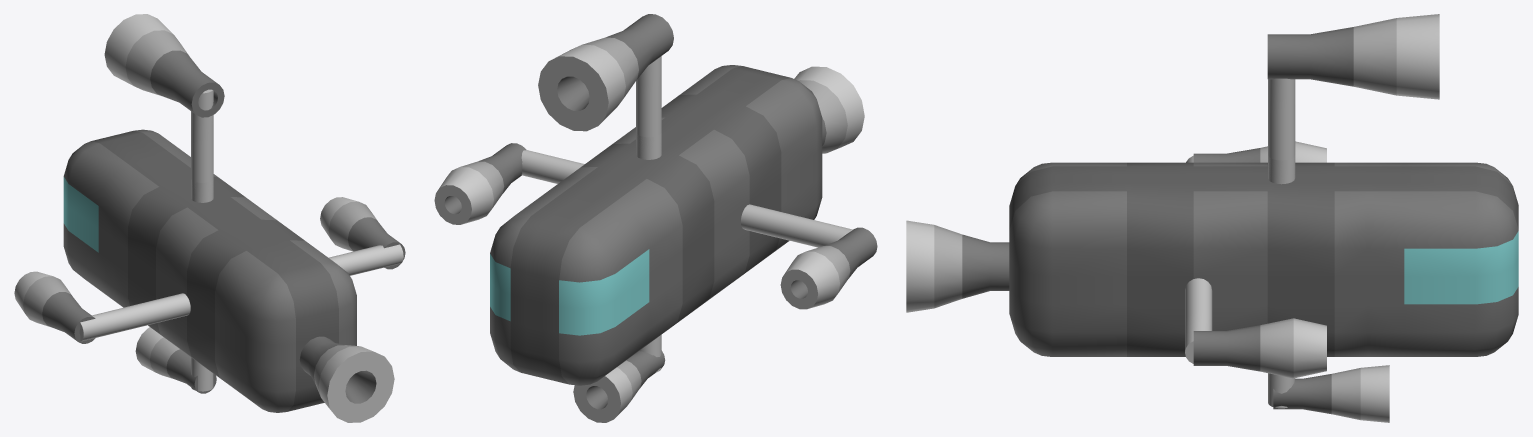
File: tanker.fbx
3 views of the same model, side by side, from view 1: azimuth 30°, elevation 25°; view 2: azimuth 150°, elevation 25°; view 3: azimuth 270°, elevation 25° (orthographic). The views are drawn at different scales.
Visible parts, largest first — view 1: Cube, Tube_1, Tube_4, Tube, Tube_3, Cylinder, Tube_2, Cylinder_2, Cylinder_1, Cylinder_3; view 2: Cube, Tube_1, Tube, Tube_3, Tube_4, Tube_2, Cylinder, Cylinder_2, Cylinder_1, Cylinder_3; view 3: Cube, Tube_1, Tube_4, Tube_3, Tube_2, Cylinder_2, Cylinder_1, Tube, Cylinder_3.
Part boxes in pixels (<box>): Cube: <box>63,129,356,412</box>; Tube_1: <box>104,14,224,117</box>; Tube_4: <box>299,336,394,422</box>; Tube: <box>14,271,95,343</box>; Tube_3: <box>320,197,405,269</box>; Cylinder: <box>79,293,190,341</box>; Tube_2: <box>135,327,216,393</box>; Cylinder_2: <box>191,89,213,202</box>; Cylinder_1: <box>329,244,403,275</box>; Cylinder_3: <box>191,179,213,391</box>; Cube: <box>490,65,822,385</box>; Tube_1: <box>538,14,673,131</box>; Tube: <box>780,227,877,309</box>; Tube_3: <box>434,143,526,224</box>; Tube_4: <box>794,66,864,153</box>; Tube_2: <box>573,350,665,422</box>; Cylinder: <box>741,204,852,247</box>; Cylinder_2: <box>636,56,661,159</box>; Cylinder_1: <box>521,150,584,183</box>; Cylinder_3: <box>636,133,661,372</box>; Cube: <box>1009,162,1518,356</box>; Tube_1: <box>1267,14,1439,99</box>; Tube_4: <box>906,220,1009,312</box>; Tube_3: <box>1193,318,1326,378</box>; Tube_2: <box>1273,365,1389,422</box>; Cylinder_2: <box>1268,78,1295,183</box>; Cylinder_1: <box>1185,278,1212,363</box>; Tube: <box>1193,141,1326,162</box>; Cylinder_3: <box>1268,155,1295,408</box>.
Size of the model in its own units: 333 by 308 by 426.
